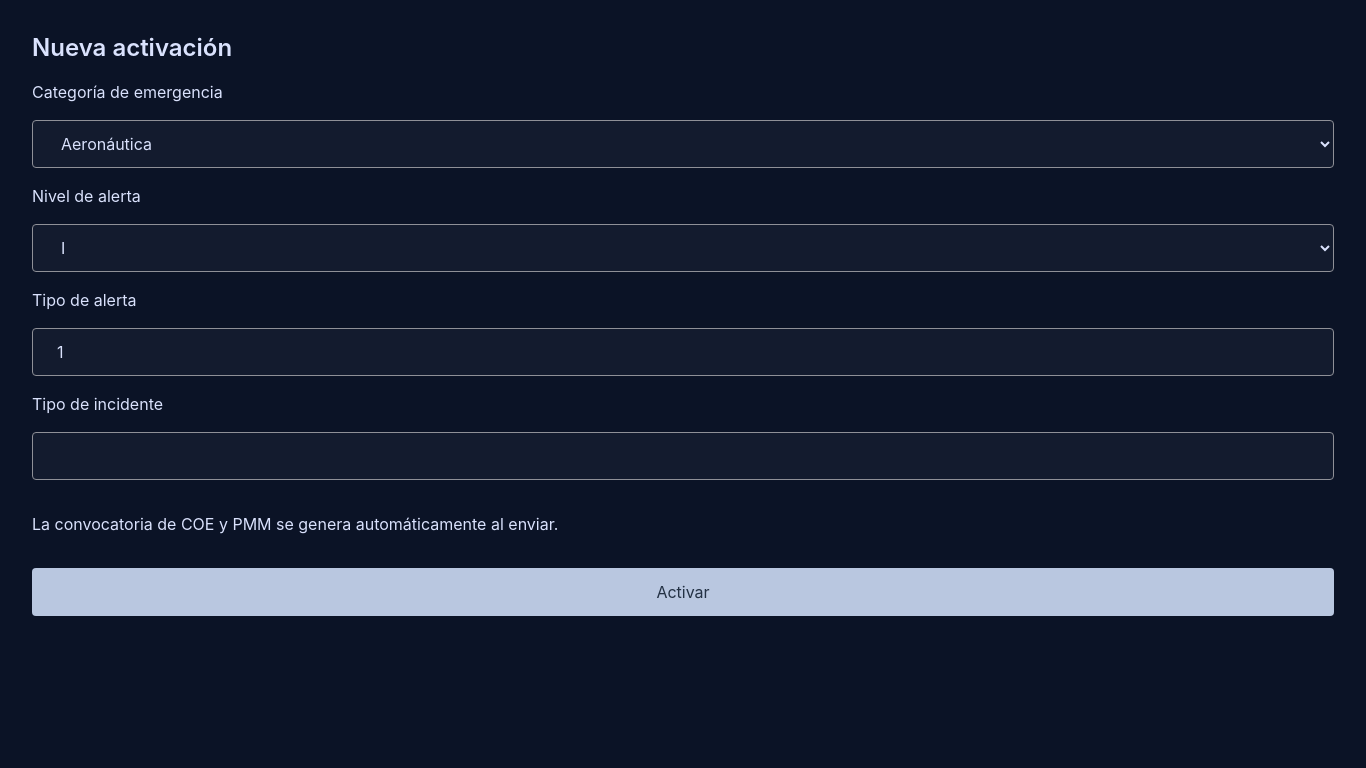
Scenario: NuevaActivacionScreen › aeronautica: envia nivel_alerta/tipo_alerta y muestra la convocatoria de la respuesta
Select "II" in the dropdown labelled "Nivel de alerta": x=683, y=248 left=32, top=224, right=1334, bottom=272
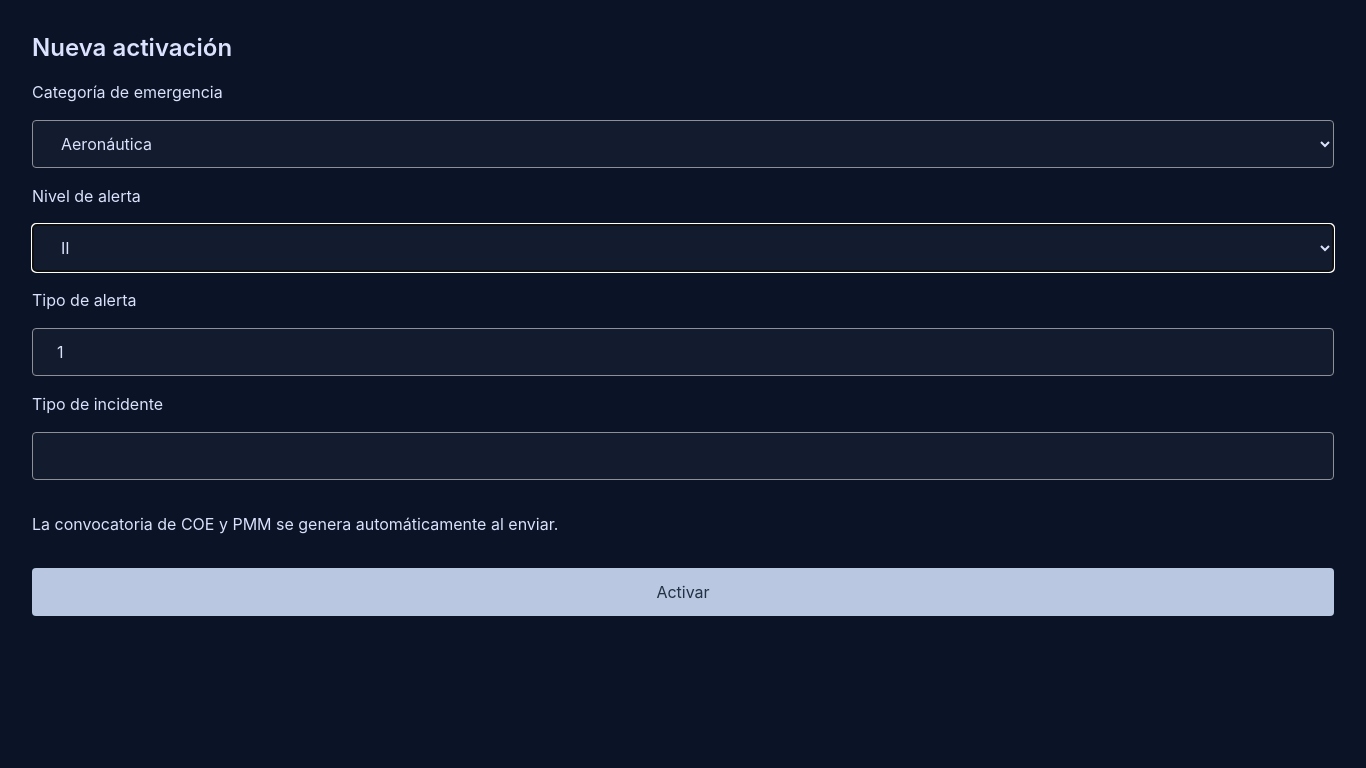
Replace the text in the number field labelled "Tipo de alerta" with "5": x=683, y=352 left=32, top=328, right=1334, bottom=376
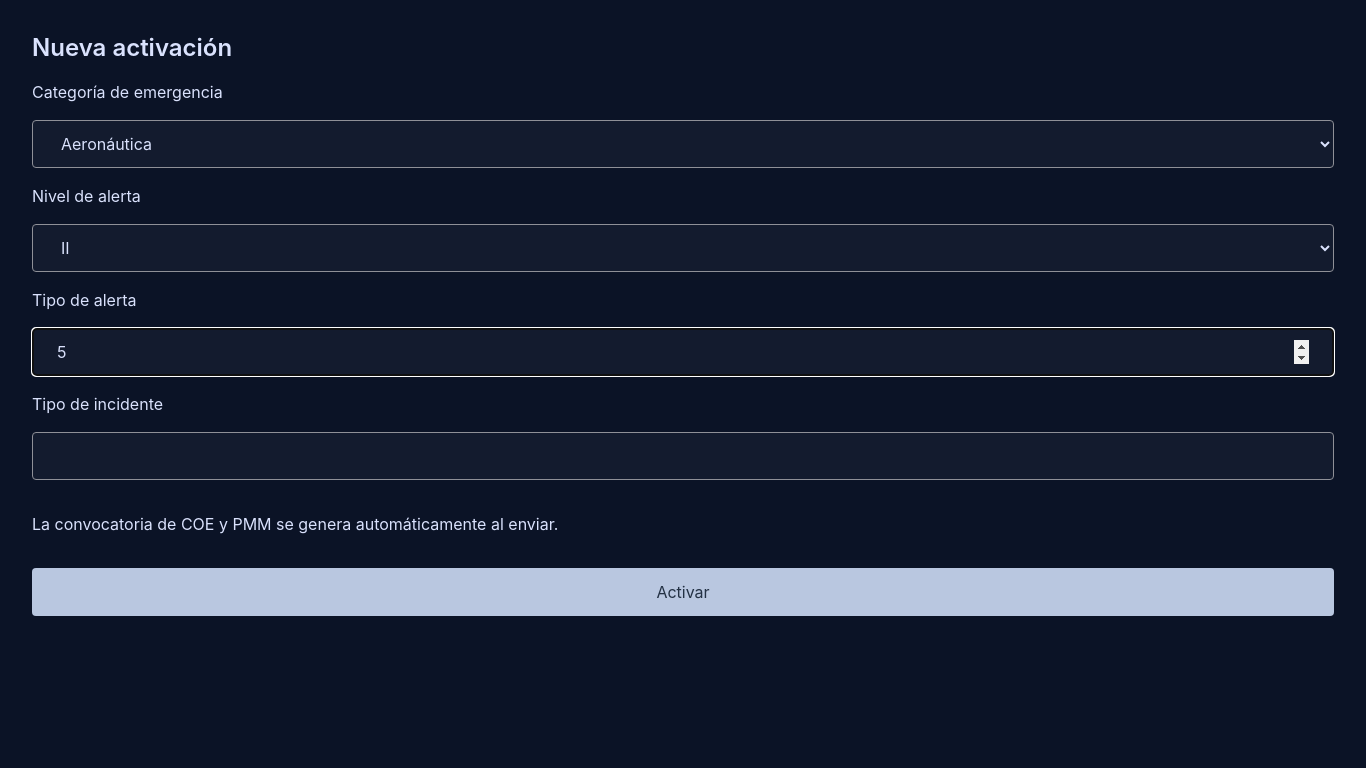
In the field labelled "Tipo de incidente": x=683, y=456 left=32, top=432, right=1334, bottom=480, type "incendio en pista"
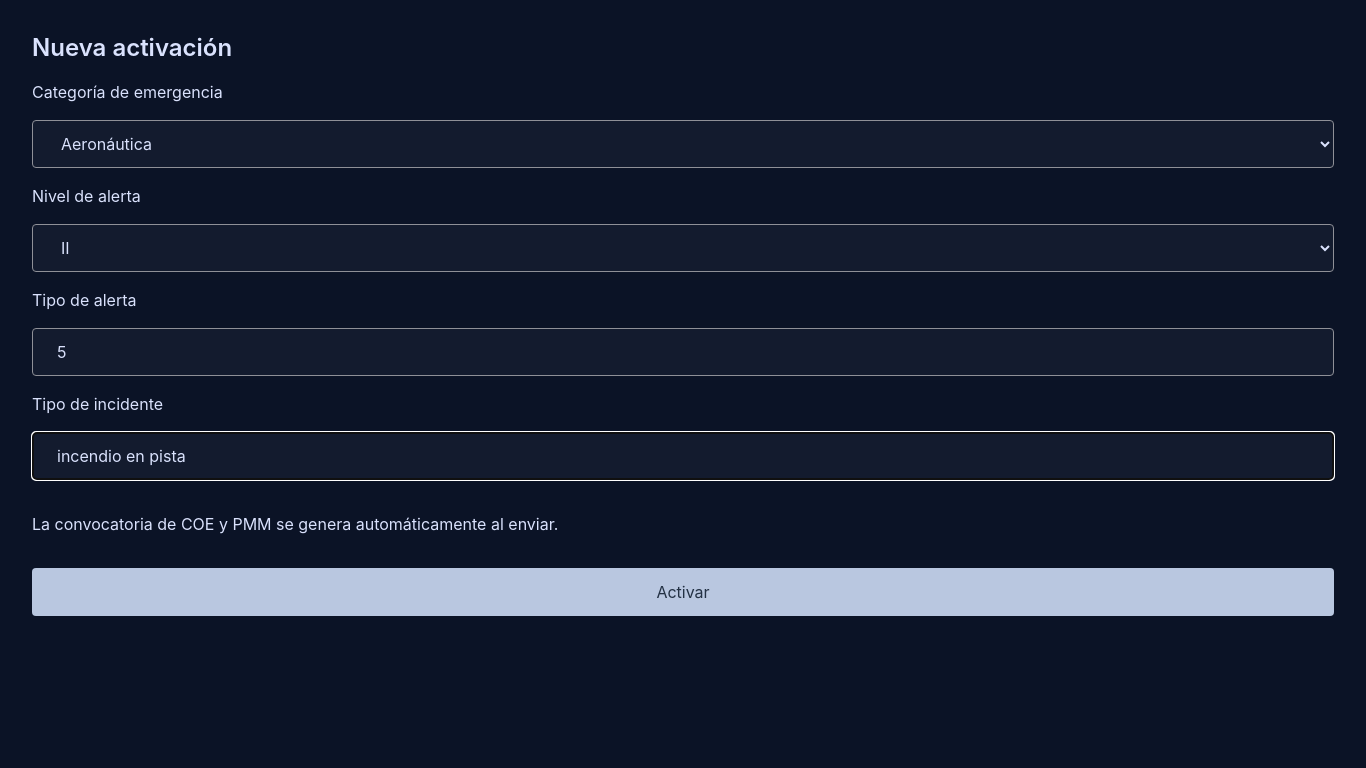
Click the button "Activar": x=683, y=592 left=32, top=568, right=1334, bottom=616
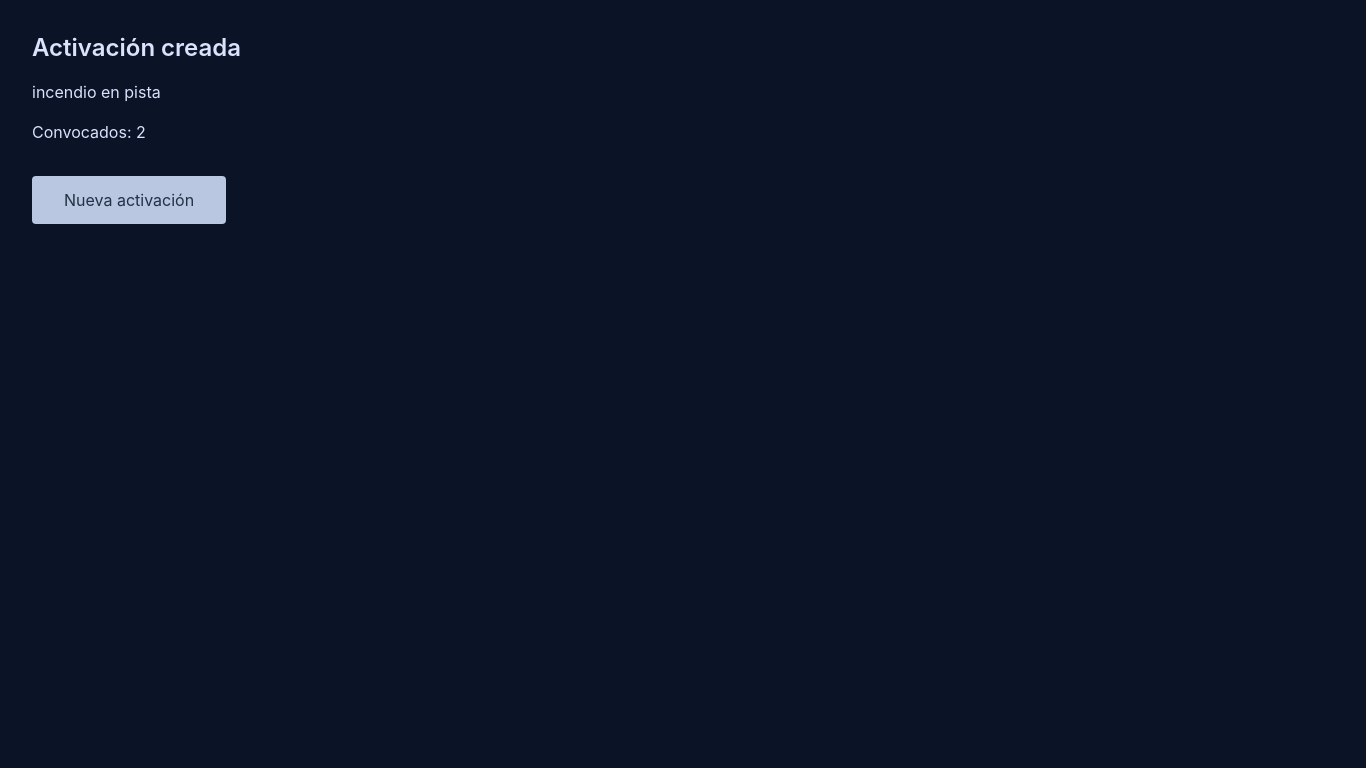
Check: the text "Convocados: 2" is shown, box left=32, top=122, right=146, bottom=142
